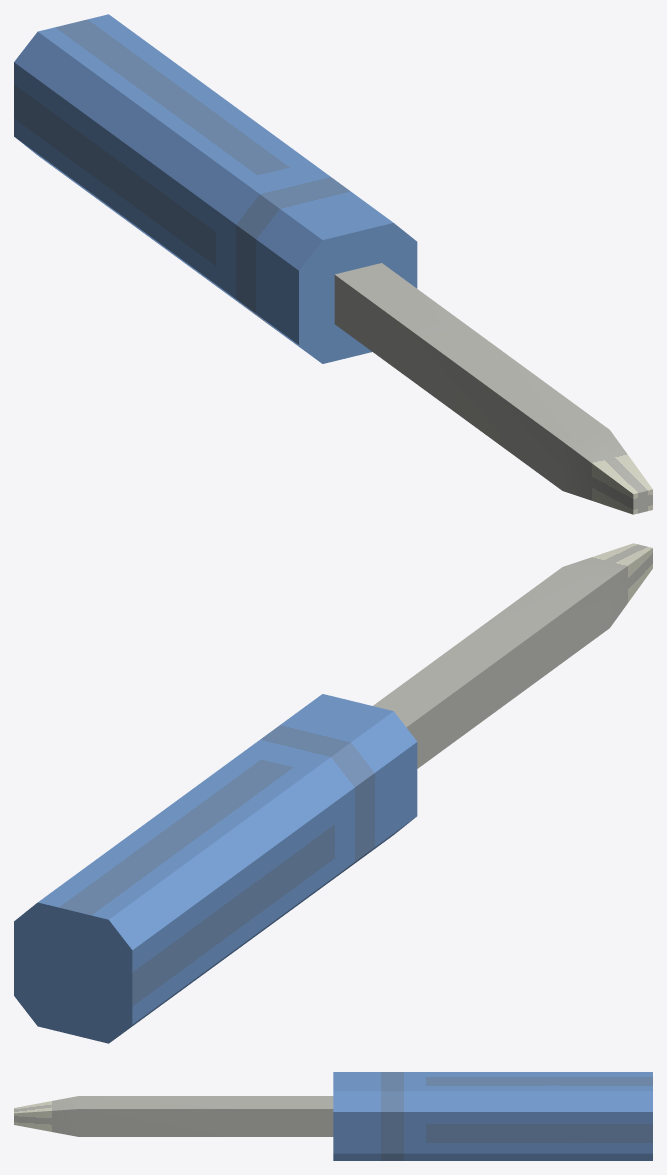
The model's file is 0048_Philips_Head.glb.
The picture shows the model from 3 angles, top to bottom: view 1: azimuth 30°, elevation 25°; view 2: azimuth 150°, elevation 25°; view 3: azimuth 270°, elevation 25°; orthographic projection. The views are drawn at different scales.
Parts seen in each view (by area): view 1: part_0; view 2: part_0; view 3: part_0.
Boxes of the visible parts, x1,y1,x2,y2 form: part_0: [14, 14, 652, 514]; part_0: [14, 543, 652, 1043]; part_0: [14, 1072, 652, 1160].
Size of the model in its own units: 0.03 by 0.03 by 0.25.
1 material, 1 textured.
